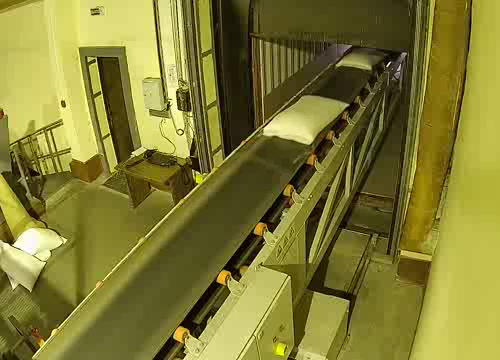bag: (256, 89, 352, 147), (334, 43, 390, 72)
